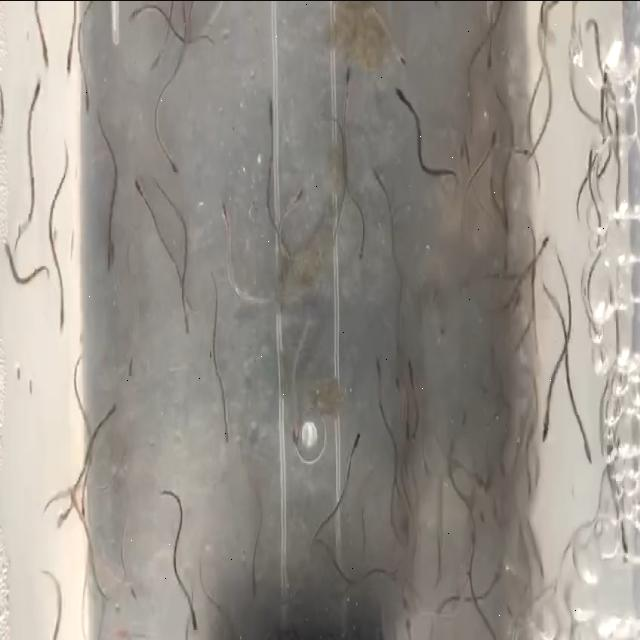active_glass_eel: (530, 231, 550, 269), (104, 228, 119, 274), (482, 22, 496, 70), (580, 426, 596, 468), (541, 396, 555, 442), (389, 34, 409, 66), (341, 60, 353, 112), (347, 430, 364, 464), (266, 90, 278, 138), (146, 44, 166, 72), (82, 64, 94, 110), (586, 138, 598, 184), (100, 400, 121, 426), (486, 122, 500, 158), (404, 352, 418, 387), (220, 201, 232, 241), (394, 80, 409, 112), (288, 183, 306, 209), (402, 410, 415, 446), (61, 37, 72, 79), (458, 132, 470, 170), (219, 416, 232, 450), (30, 74, 42, 110), (132, 175, 148, 202), (373, 348, 385, 384), (41, 37, 53, 72), (367, 158, 383, 184), (182, 296, 192, 336), (124, 2, 142, 24), (166, 155, 180, 183), (125, 353, 136, 388), (250, 566, 260, 604), (57, 288, 66, 330), (357, 231, 368, 263), (514, 140, 530, 162), (81, 474, 89, 516), (124, 576, 138, 597), (395, 368, 403, 403), (188, 601, 198, 607)
